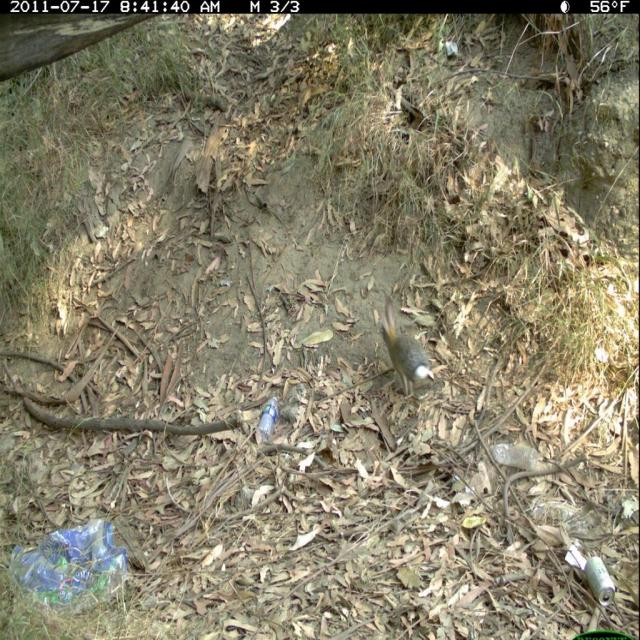rabbit: (375, 296, 439, 402)
